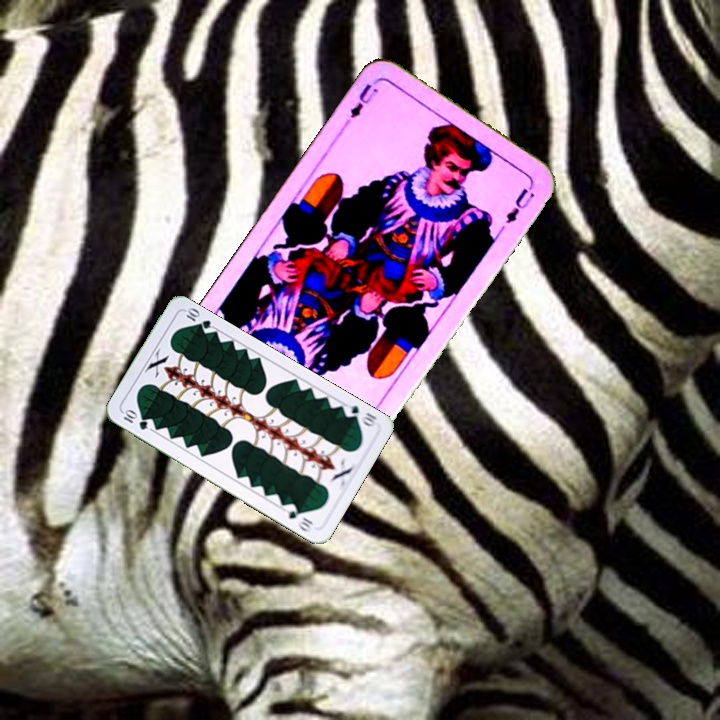EU: (341, 75, 381, 127)
G10: (339, 400, 380, 429), (119, 406, 151, 433)
